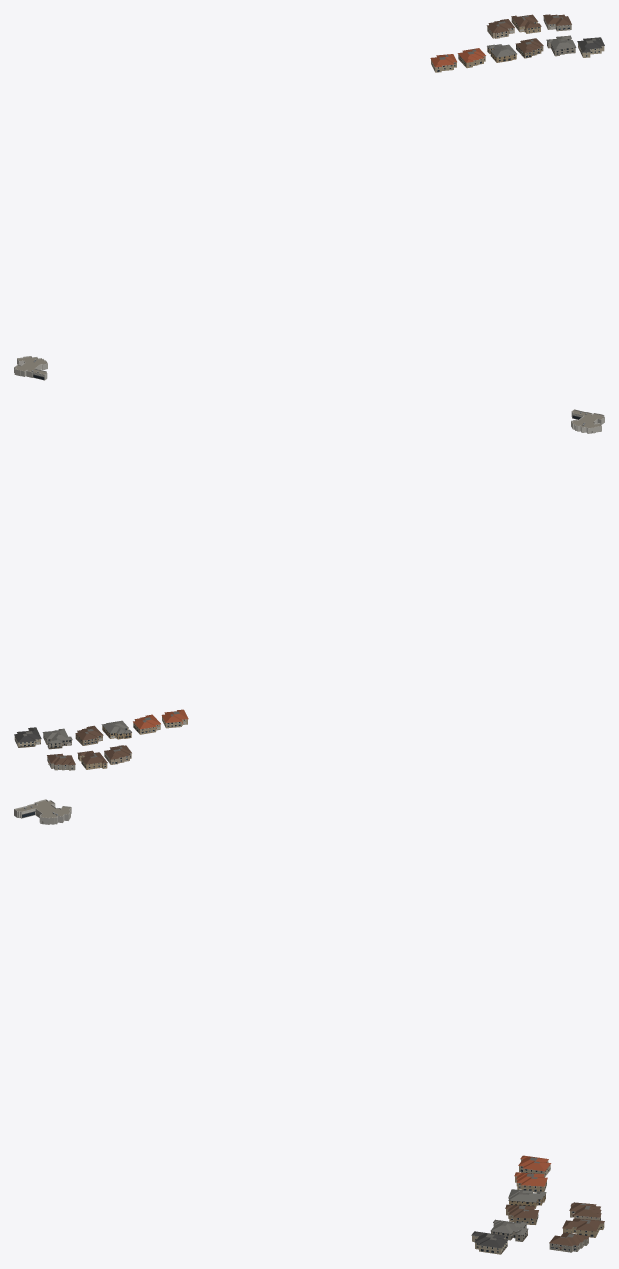
3 views of the same model, one above another, from view 1: azimuth 30°, elevation 25°; view 2: azimuth 210°, elevation 25°; view 3: azimuth 270°, elevation 25° (orthographic). The views are drawn at different scales.
Parts seen in each view (by area): view 1: buildings_r5_c1_lod0; view 2: buildings_r5_c1_lod0; view 3: buildings_r5_c1_lod0.
Part boxes in pixels (x1,y1,x2,y2): buildings_r5_c1_lod0: (14, 14, 604, 380); buildings_r5_c1_lod0: (14, 409, 604, 770); buildings_r5_c1_lod0: (14, 799, 604, 1254).
Size of the model in its own units: 929 by 13.76 by 514.
